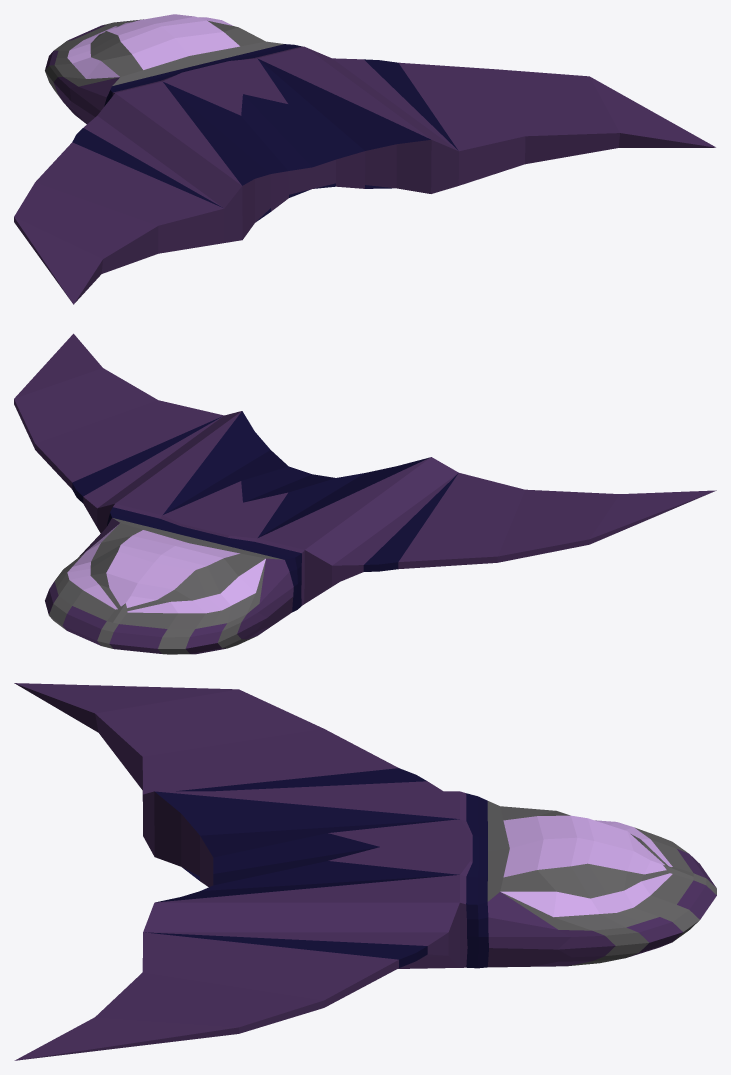
The model's file is Player.fbx.
3 views of the same model, one above another, from view 1: azimuth 30°, elevation 25°; view 2: azimuth 150°, elevation 25°; view 3: azimuth 270°, elevation 25° (orthographic). The views are drawn at different scales.
Visible parts, largest first — view 1: Cube; view 2: Cube; view 3: Cube.
Boxes of the visible parts, x1=… form: Cube: x1=14, y1=14, x2=715, y2=304; Cube: x1=14, y1=333, x2=716, y2=654; Cube: x1=14, y1=683, x2=716, y2=1060.
Bounding box in the file's own units: 3974 × 388 × 3124.
